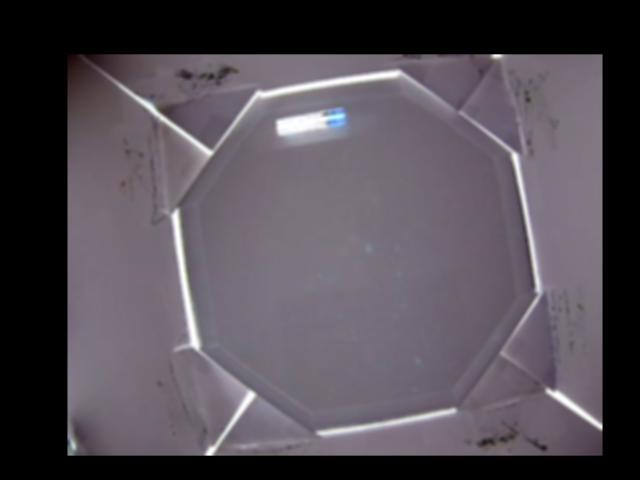Battery: (275, 107, 345, 138)
